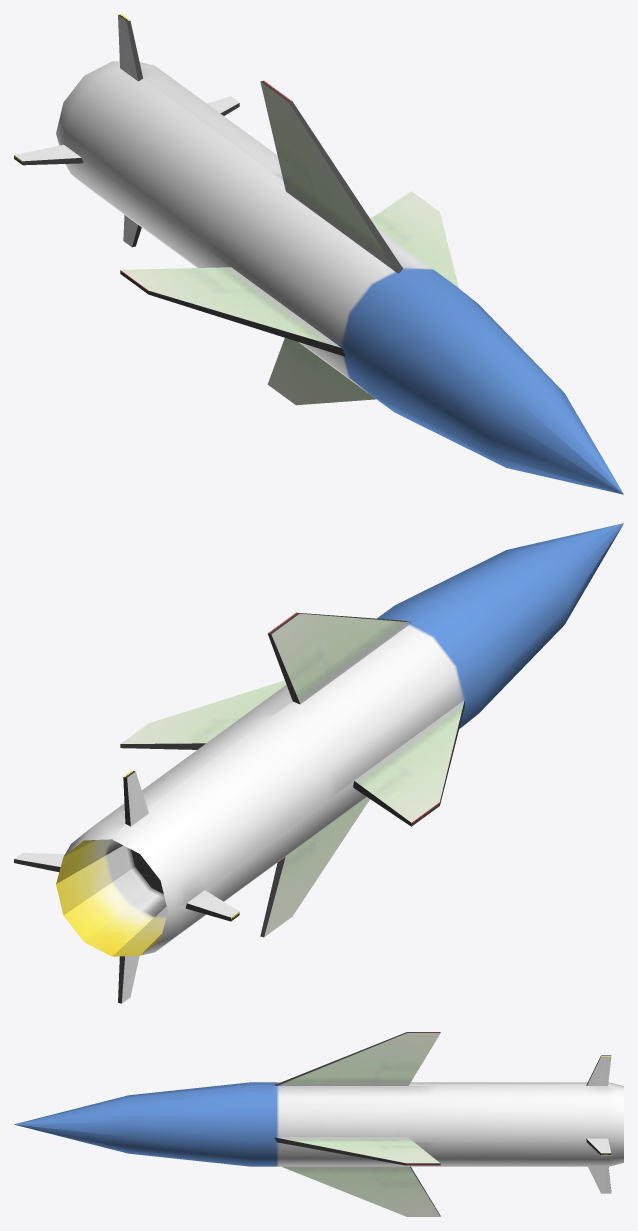
File: Missile_1.FBX
The picture shows the model from 3 angles, top to bottom: view 1: azimuth 30°, elevation 25°; view 2: azimuth 150°, elevation 25°; view 3: azimuth 270°, elevation 25°; orthographic projection. The views are drawn at different scales.
Visible parts, largest first — view 1: daodan_1; view 2: daodan_1; view 3: daodan_1.
Part boxes in pixels (left/top/right/bottom): daodan_1: left=14, top=14, right=623, bottom=494; daodan_1: left=14, top=523, right=623, bottom=1003; daodan_1: left=14, top=1032, right=623, bottom=1216.
Bounding box in the file's own units: 207 × 207 × 631.
Materials: 1 (1 with a texture image).
